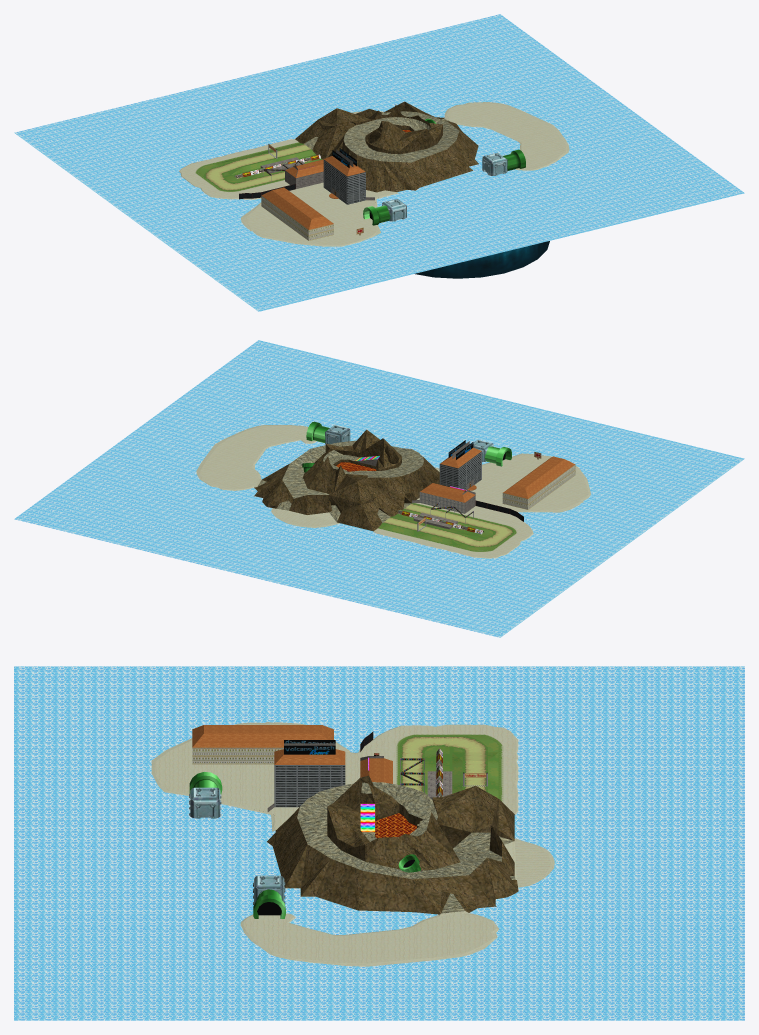
3 renders of one model, top to bottom at view 1: azimuth 30°, elevation 25°; view 2: azimuth 150°, elevation 25°; view 3: azimuth 270°, elevation 25°, orthographic. The views are drawn at different scales.
Parts seen in each view (by area): view 1: Course_Model-SKP--water, Course_Model-SKP--Sand, Course_Model-SKP--volcano_wall, Course_Model-SKP--stone_road, Course_Model-SKP--Underwater_Wall, Course_Model-SKP--Road_roof, Course_Model-SKP--road1, Course_Model-SKP--building, Course_Model-SKP--Grass, Course_Model-SKP--ns2_si_iwa32, Course_Model-SKP--pipes_staffroll, Course_Model-SKP--house1 (+2 smaller); view 2: Course_Model-SKP--water, Course_Model-SKP--Sand, Course_Model-SKP--volcano_wall, Course_Model-SKP--stone_road, Course_Model-SKP--Road_roof, Course_Model-SKP--road1, Course_Model-SKP--Grass, Course_Model-SKP--building, Course_Model-SKP--house1, Course_Model-SKP--ns2_si_iwa32, Course_Model-SKP--Piranha5, Course_Model-SKP--pipes_staffroll (+2 smaller); view 3: Course_Model-SKP--water, Course_Model-SKP--volcano_wall, Course_Model-SKP--Sand, Course_Model-SKP--stone_road, Course_Model-SKP--Road_roof, Course_Model-SKP--road1, Course_Model-SKP--building, Course_Model-SKP--Grass, Course_Model-SKP--pipes_staffroll, Course_Model-SKP--house1, Course_Model-SKP--Piranha5, Course_Model-SKP--grass-sand (+3 smaller).
Part boxes in pixels (left/top/right/bottom): Course_Model-SKP--water: left=14, top=14, right=744, bottom=311; Course_Model-SKP--Sand: left=179, top=102, right=569, bottom=246; Course_Model-SKP--volcano_wall: left=295, top=101, right=478, bottom=192; Course_Model-SKP--stone_road: left=304, top=111, right=459, bottom=162; Course_Model-SKP--Underwater_Wall: left=415, top=241, right=549, bottom=278; Course_Model-SKP--Road_roof: left=262, top=156, right=365, bottom=229; Course_Model-SKP--road1: left=203, top=144, right=311, bottom=190; Course_Model-SKP--building: left=323, top=159, right=365, bottom=204; Course_Model-SKP--Grass: left=198, top=143, right=322, bottom=182; Course_Model-SKP--ns2_si_iwa32: left=260, top=149, right=374, bottom=200; Course_Model-SKP--pipes_staffroll: left=382, top=152, right=507, bottom=221; Course_Model-SKP--house1: left=261, top=195, right=333, bottom=240; Course_Model-SKP--water: left=14, top=340, right=744, bottom=637; Course_Model-SKP--Sand: left=196, top=425, right=590, bottom=558; Course_Model-SKP--volcano_wall: left=254, top=429, right=439, bottom=531; Course_Model-SKP--stone_road: left=257, top=440, right=423, bottom=522; Course_Model-SKP--Road_roof: left=358, top=447, right=575, bottom=502; Course_Model-SKP--road1: left=383, top=503, right=514, bottom=547; Course_Model-SKP--Grass: left=379, top=509, right=496, bottom=550; Course_Model-SKP--building: left=439, top=451, right=481, bottom=489; Course_Model-SKP--house1: left=502, top=464, right=575, bottom=509; Course_Model-SKP--ns2_si_iwa32: left=355, top=441, right=475, bottom=529; Course_Model-SKP--Piranha5: left=306, top=421, right=511, bottom=466; Course_Model-SKP--pipes_staffroll: left=325, top=425, right=493, bottom=461; Course_Model-SKP--water: left=14, top=666, right=744, bottom=1020; Course_Model-SKP--volcano_wall: left=267, top=775, right=518, bottom=914; Course_Model-SKP--Sand: left=151, top=722, right=554, bottom=966; Course_Model-SKP--stone_road: left=297, top=782, right=515, bottom=913; Course_Model-SKP--Road_roof: left=192, top=725, right=392, bottom=832; Course_Model-SKP--road1: left=400, top=736, right=487, bottom=792; Course_Model-SKP--building: left=274, top=765, right=345, bottom=807; Course_Model-SKP--Grass: left=424, top=736, right=498, bottom=798; Course_Model-SKP--pipes_staffroll: left=189, top=787, right=285, bottom=904; Course_Model-SKP--house1: left=192, top=747, right=283, bottom=764; Course_Model-SKP--Piranha5: left=189, top=772, right=285, bottom=918; Course_Model-SKP--grass-sand: left=395, top=733, right=503, bottom=803.
Size of the model in its own units: 128034 by 23031 by 111592.
Materials: 35 (35 with a texture image).
